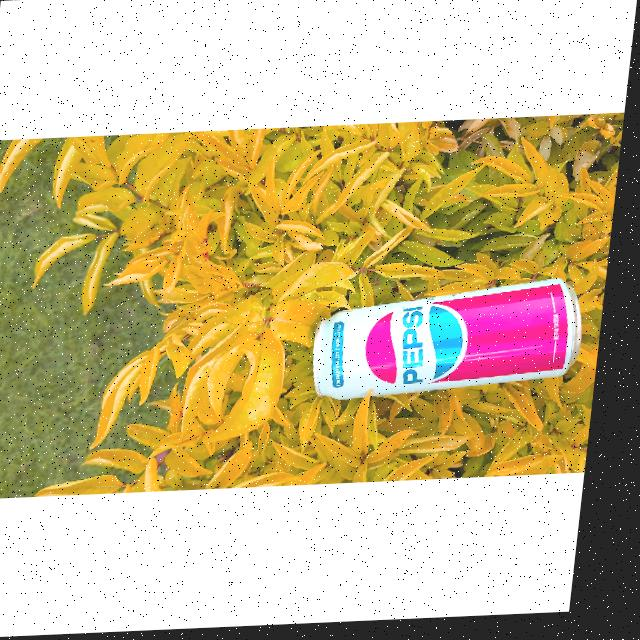Pepsi Retro: (315, 281, 595, 409)
